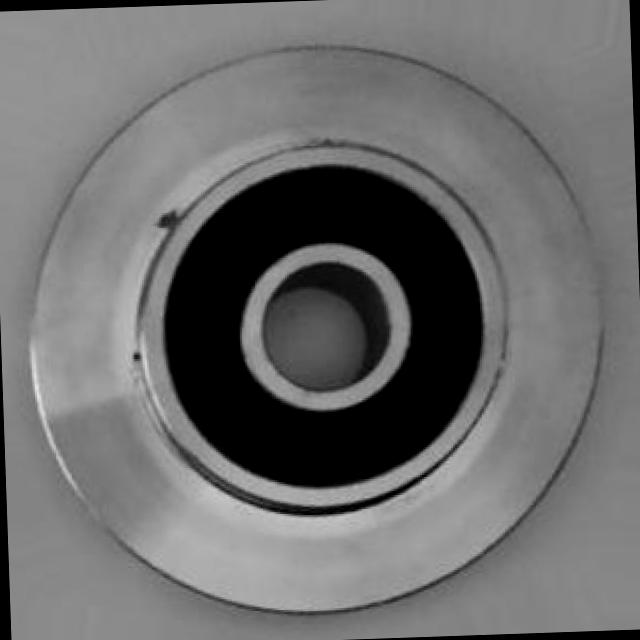Defect: (152, 205, 180, 238)
